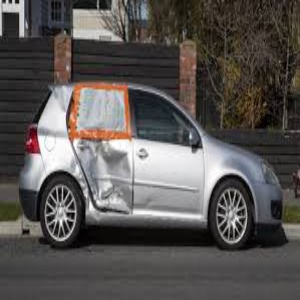door: (79, 141, 164, 212)
